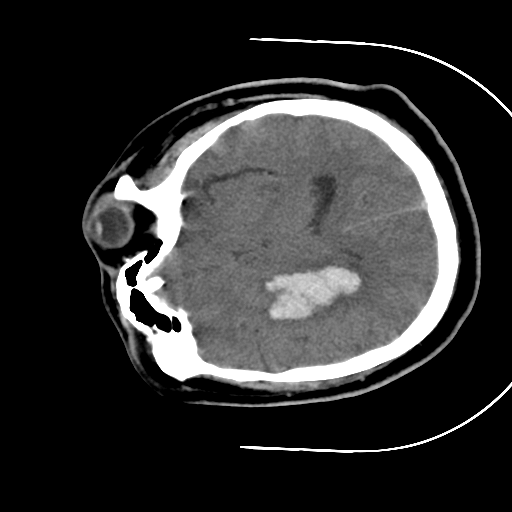a: (249, 254, 376, 332)
